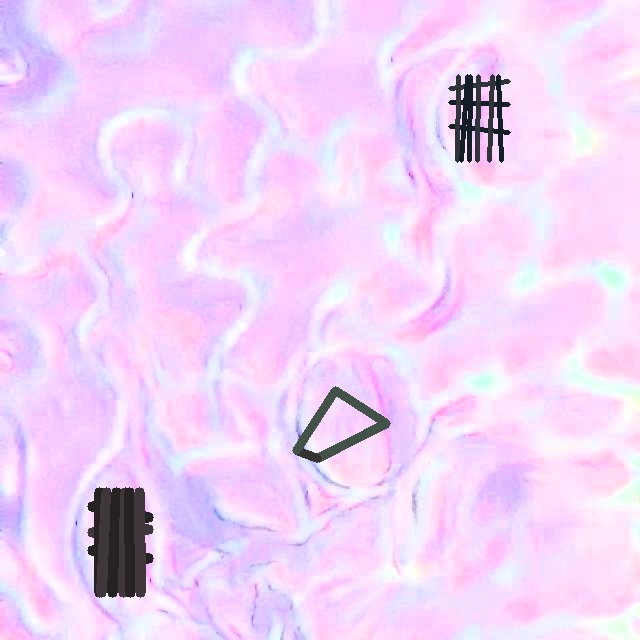close: (293, 386, 389, 461)
open: (88, 488, 152, 596), (448, 74, 510, 161)
